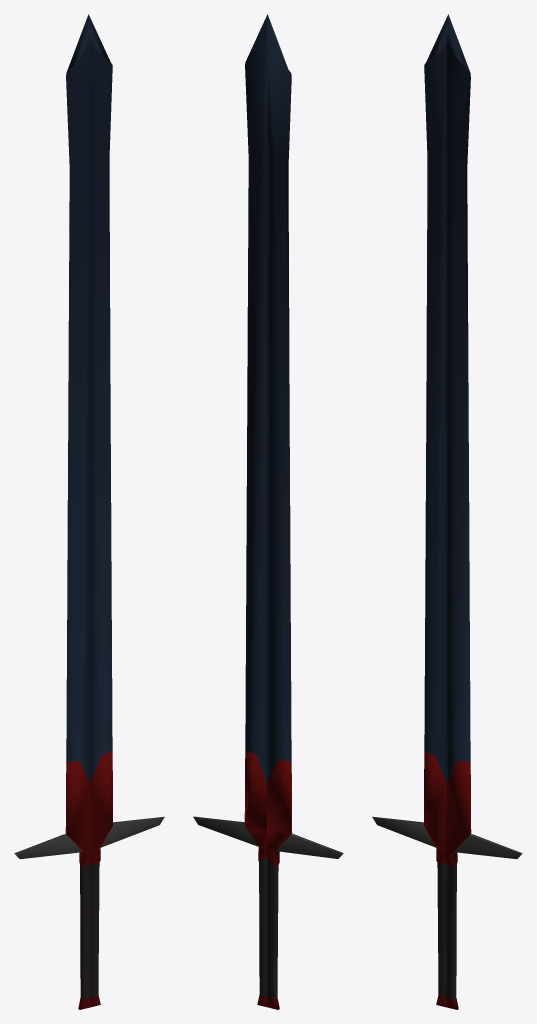
File: Sword_Metal.fbx
3 views of the same model, side by side, from view 1: azimuth 30°, elevation 25°; view 2: azimuth 150°, elevation 25°; view 3: azimuth 330°, elevation 25° (orthographic).
Visible parts, largest first — view 1: Sword; view 2: Sword; view 3: Sword.
Boxes of the visible parts, x1=… form: Sword: x1=14, y1=14, x2=164, y2=1009; Sword: x1=193, y1=14, x2=343, y2=1009; Sword: x1=372, y1=14, x2=522, y2=1009.
Bounding box in the file's own units: 21.62 × 137 × 1.22.
